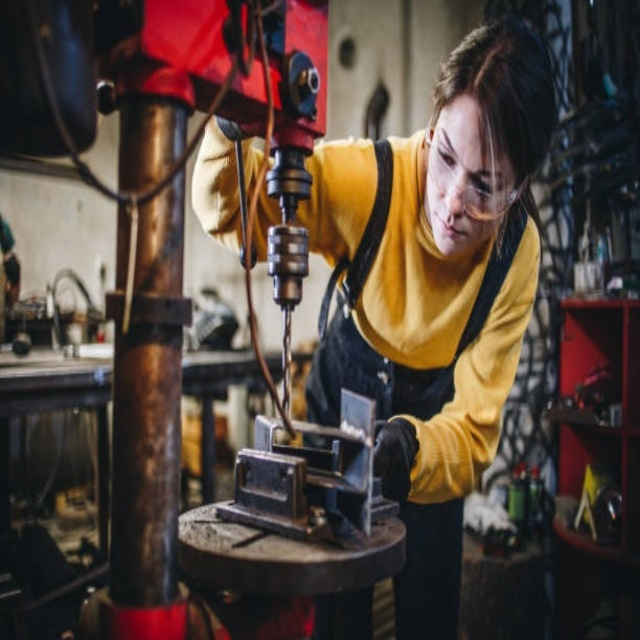Gafas: (426, 125, 524, 224)
Guantes: (370, 416, 419, 502)
Sin_mascara: (430, 205, 472, 257)
